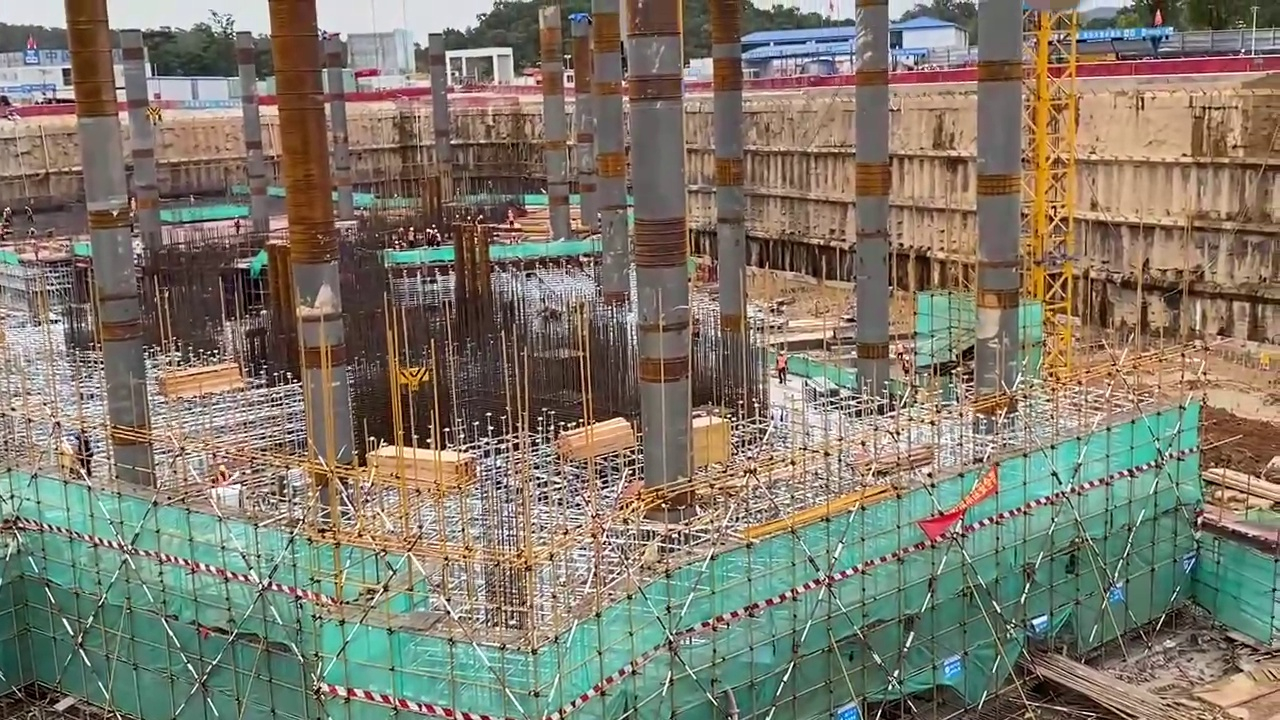hook: (399, 366, 425, 390)
person: (776, 347, 789, 384)
wood: (367, 442, 479, 484), (157, 366, 251, 397), (555, 420, 636, 455)
